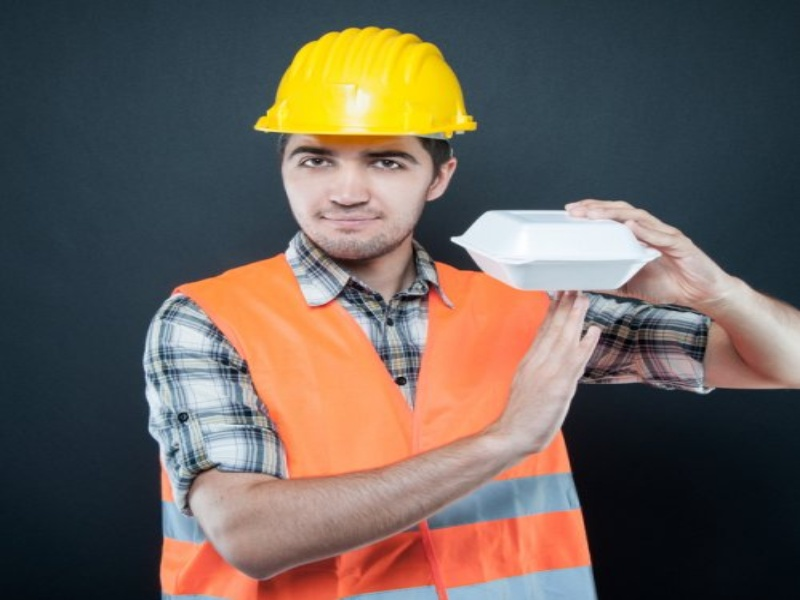helm proyek: (258, 18, 485, 281)
